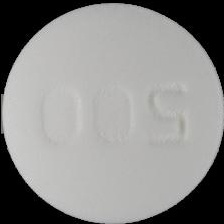53808-0381: (0, 0, 224, 224)
